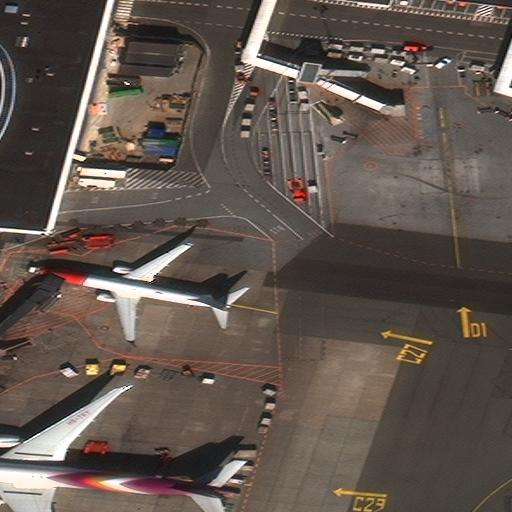Large Civil Transport: (0, 389, 242, 512)
Medium Civil Transport: (26, 243, 236, 340)
